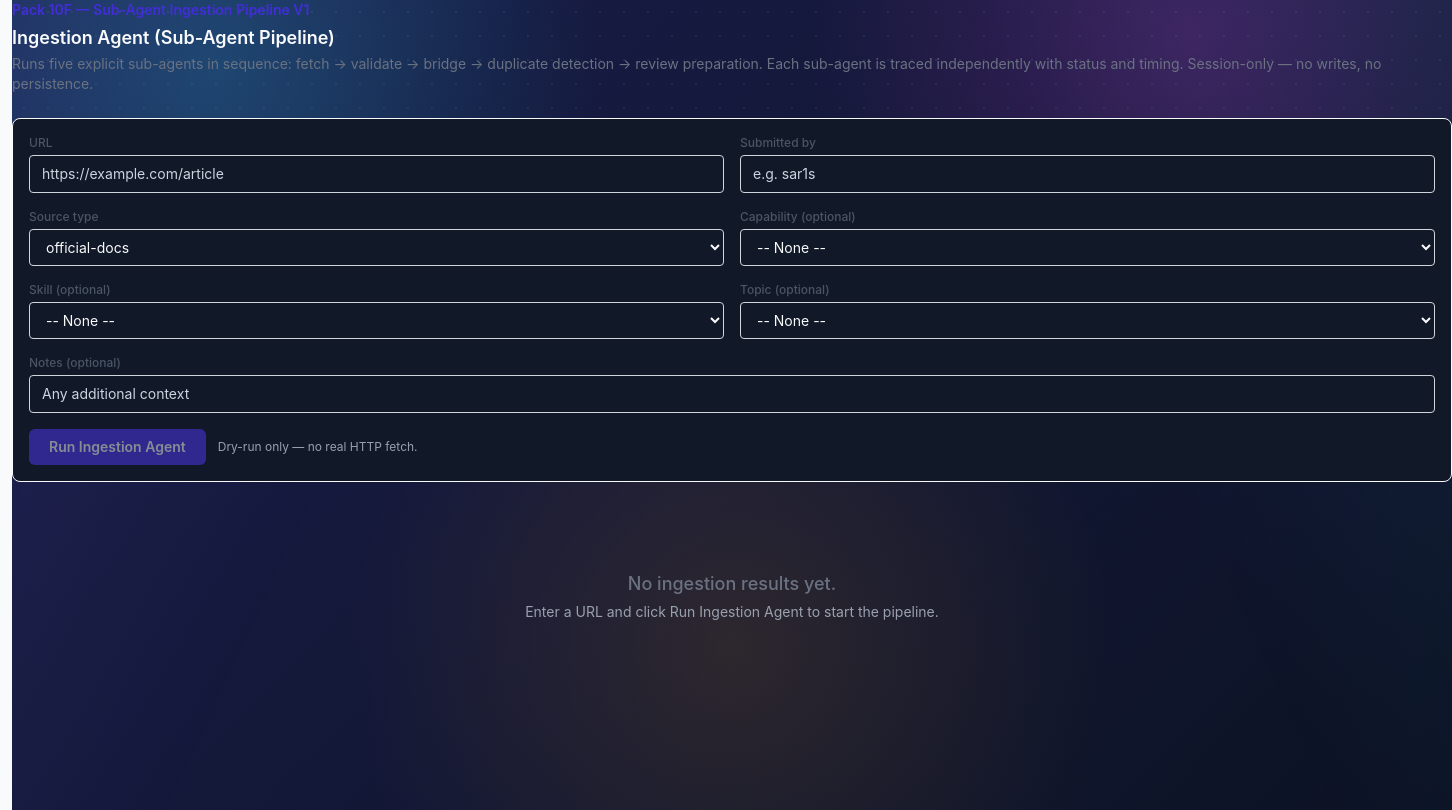
Test: IngestionAgentPreview › candidate appears in review queue with pending status
The image size is (1452, 810).
Type "https://example.com/test-url" into the field with placeholder "https://example.com/article" at point(376, 174), box [29, 155, 724, 193]
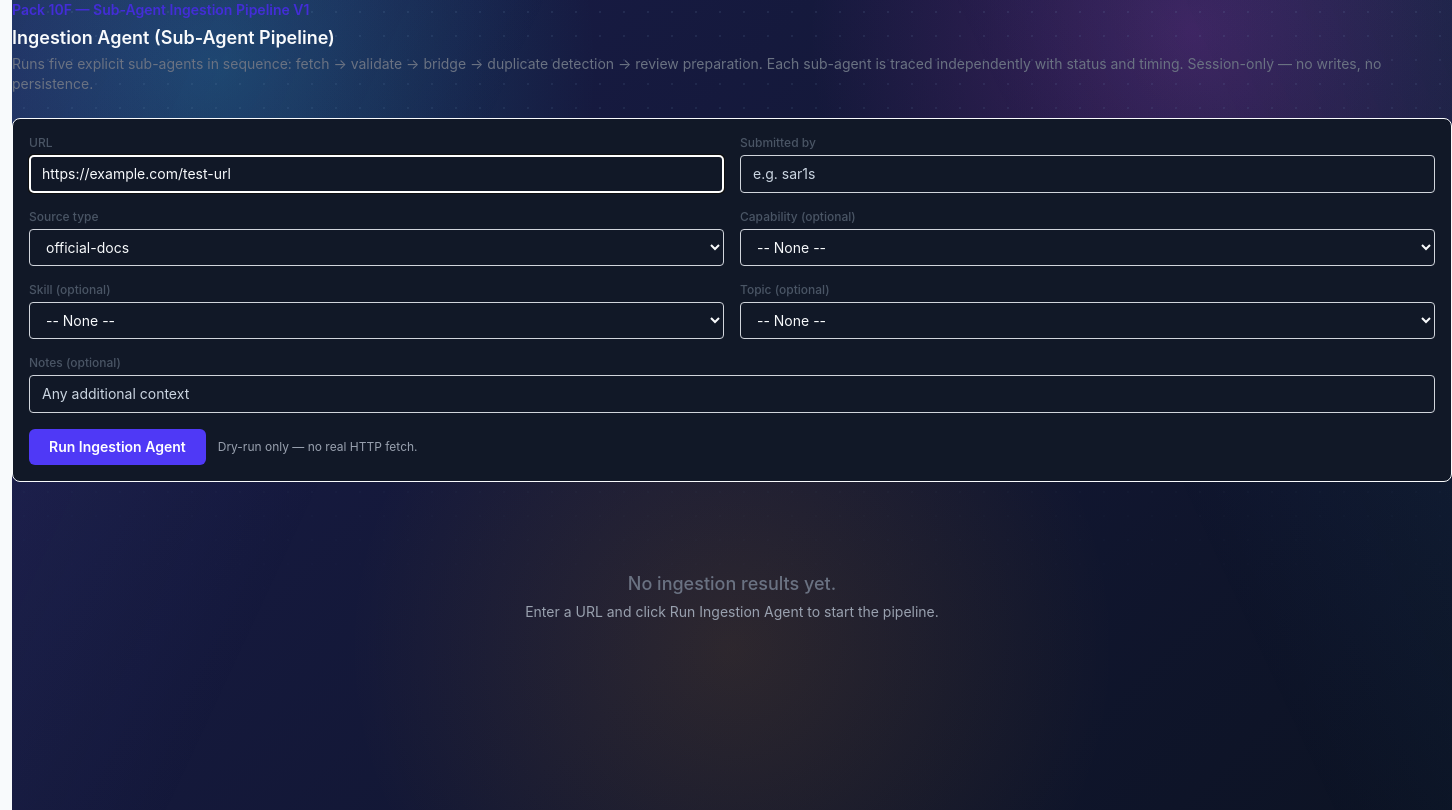
Type "test-user" into the field with placeholder "e.g. sar1s" at point(1088, 174), box [740, 155, 1435, 193]
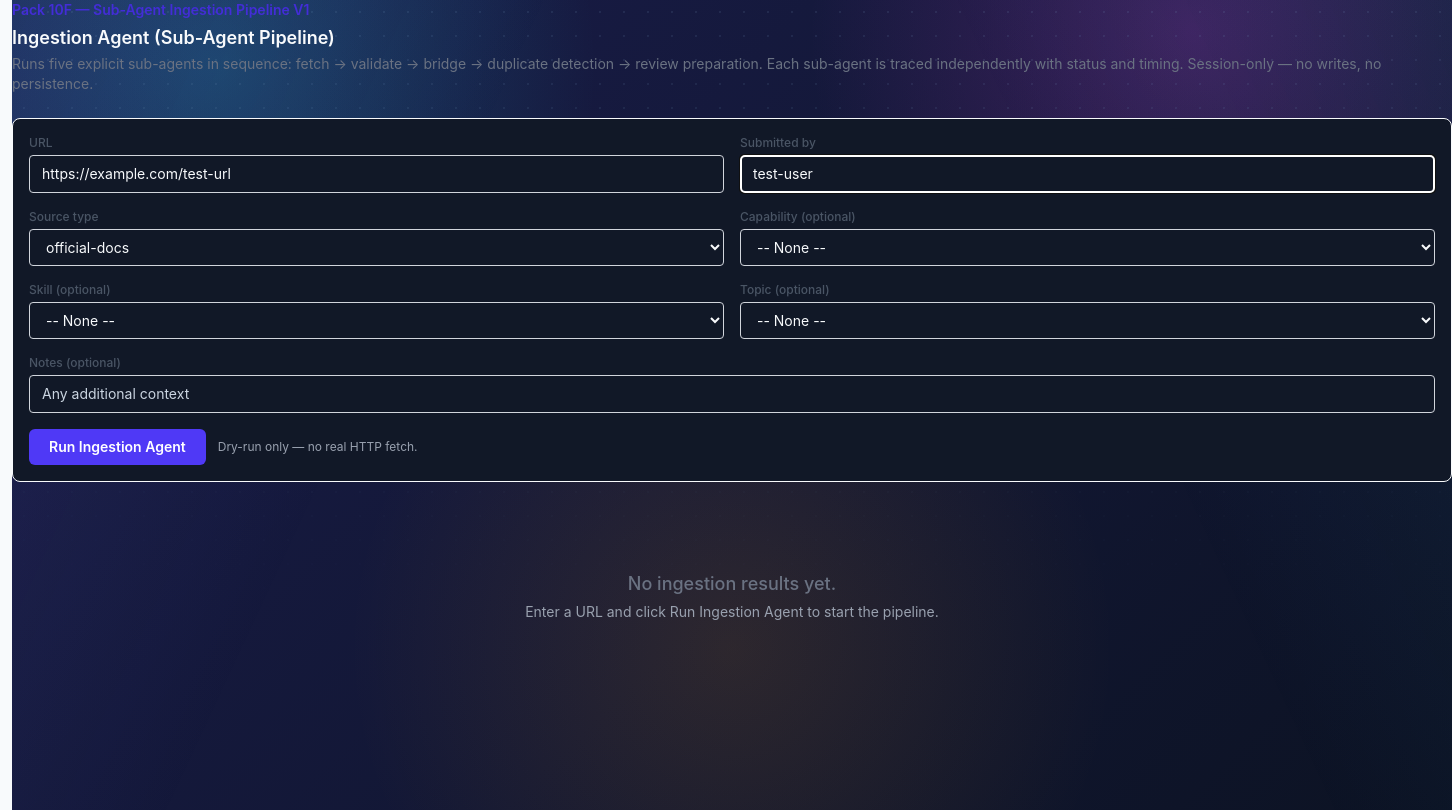
Click the button "Run Ingestion Agent" at point(117, 447), box [29, 429, 206, 465]
(page scrolled)
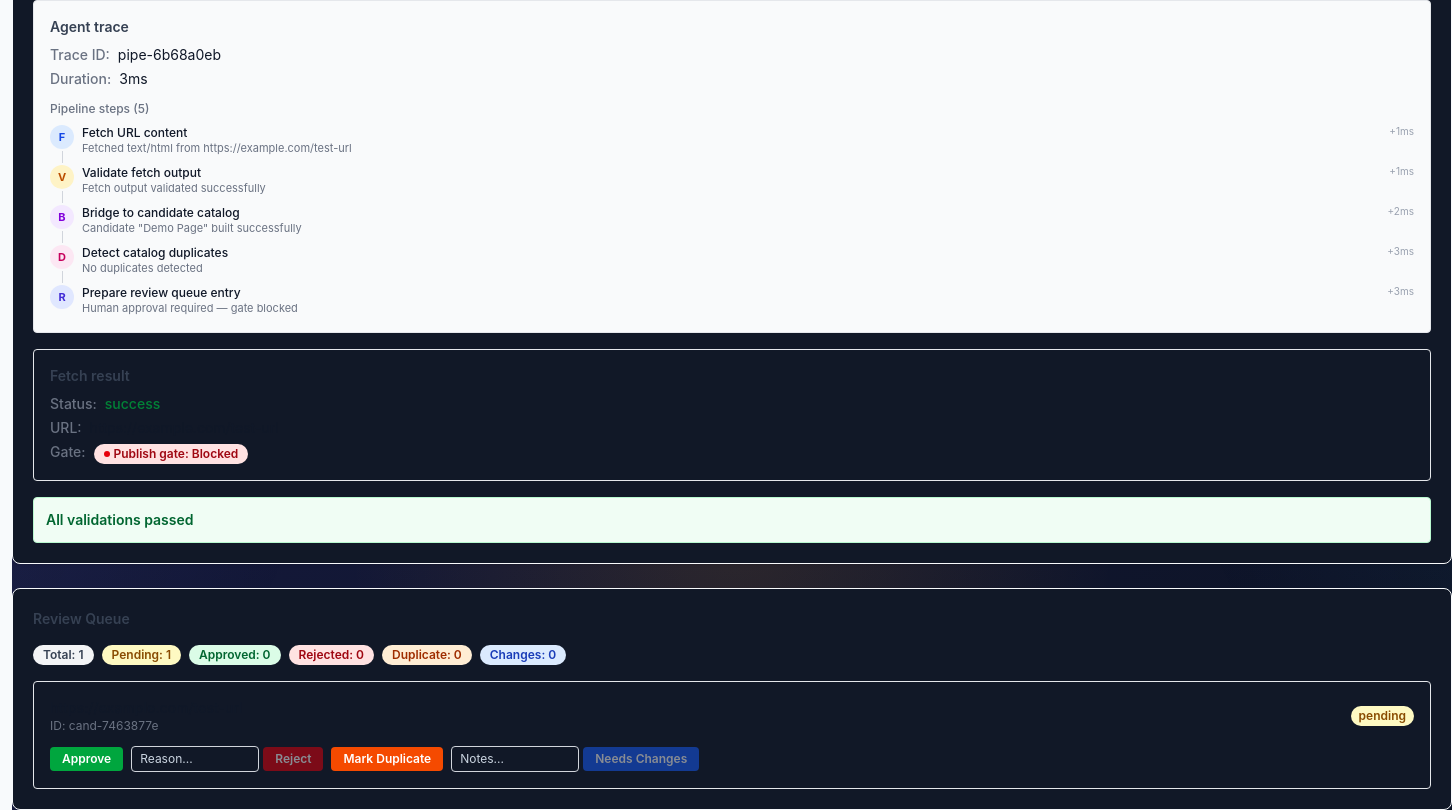
Now the text "pending" is shown, box [1351, 706, 1414, 726]
